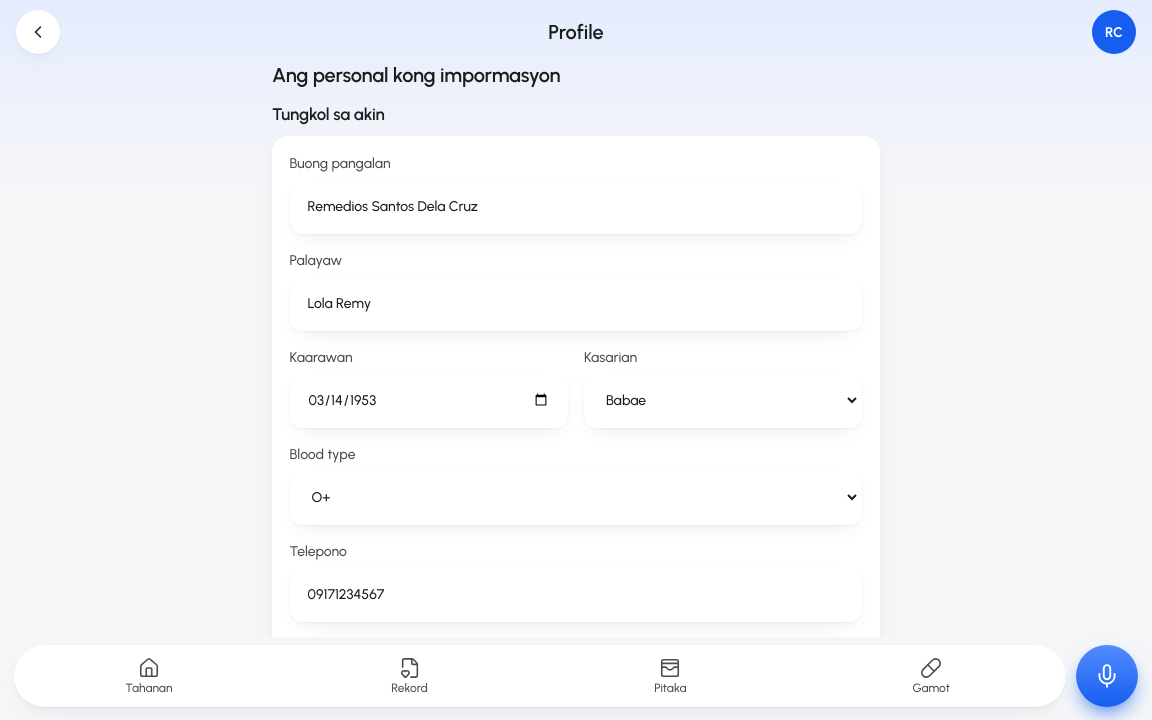
profile › the personal information form has labels above 56px inputs with the right inputmode, and saves
The width and height of the screenshot is (1152, 720).
Replace the text in the field labelled "Telepono" with "09998887777". click: (576,594)
box: 290,566 -> 862,622
(page scrolled)
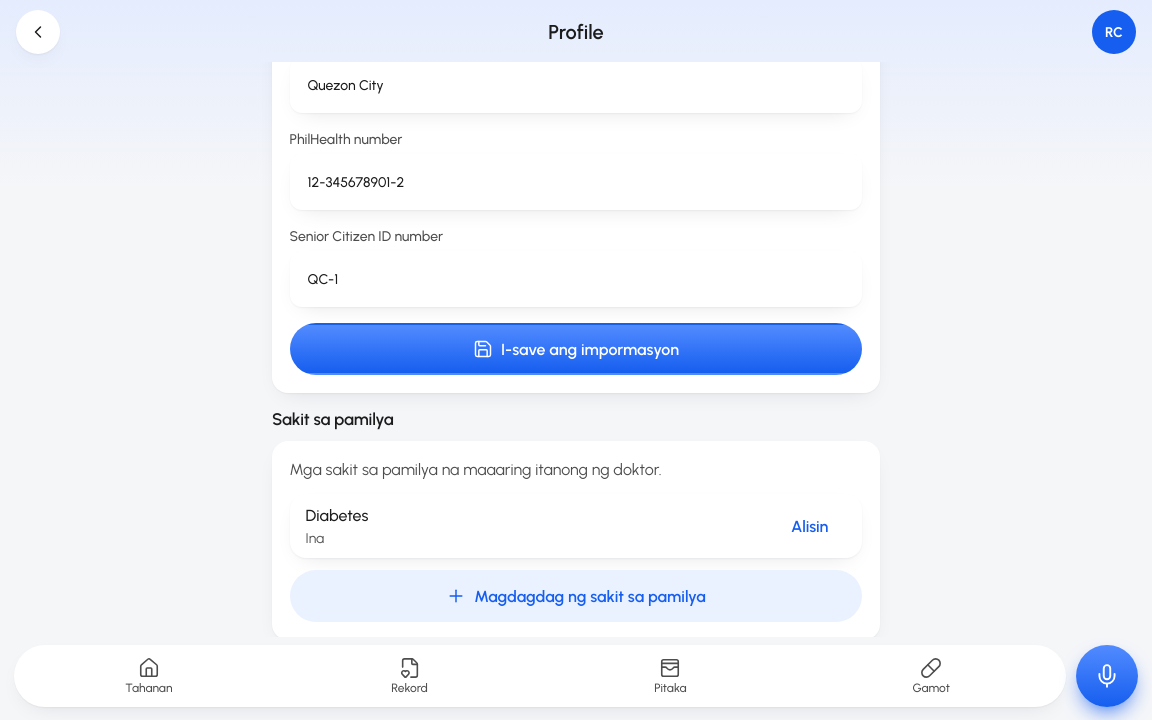
Click the button "I-save ang impormasyon". click: (576,349)
box: 290,323 -> 862,375
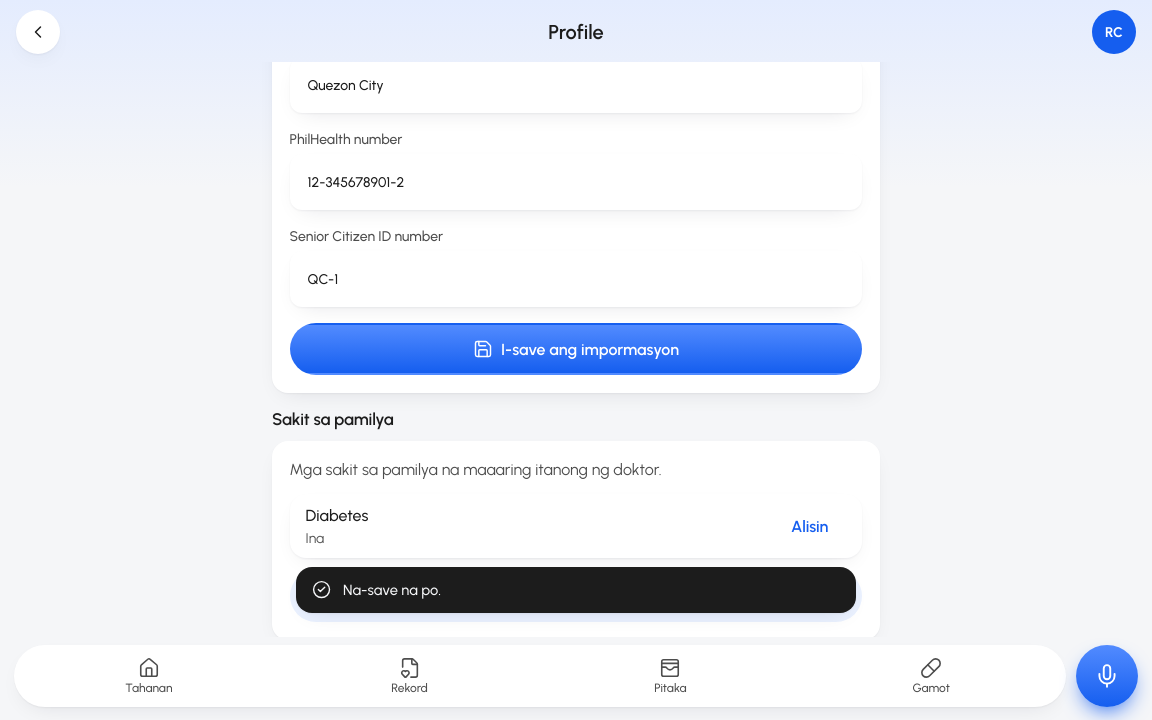
Result: the text "Na-save na po." is shown at 343,581 -> 441,599
